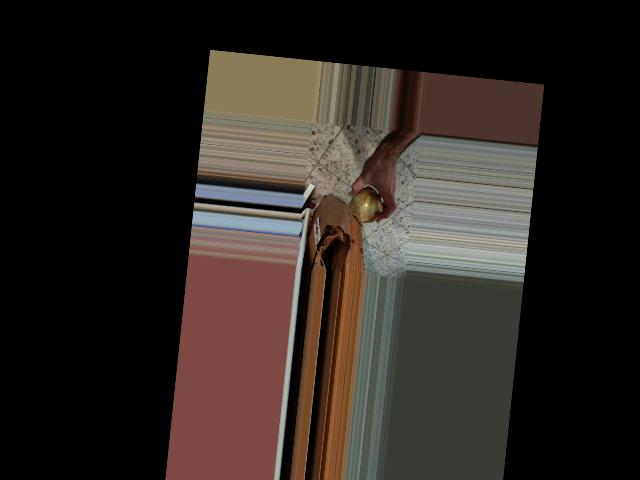onion: (347, 183, 387, 231)
